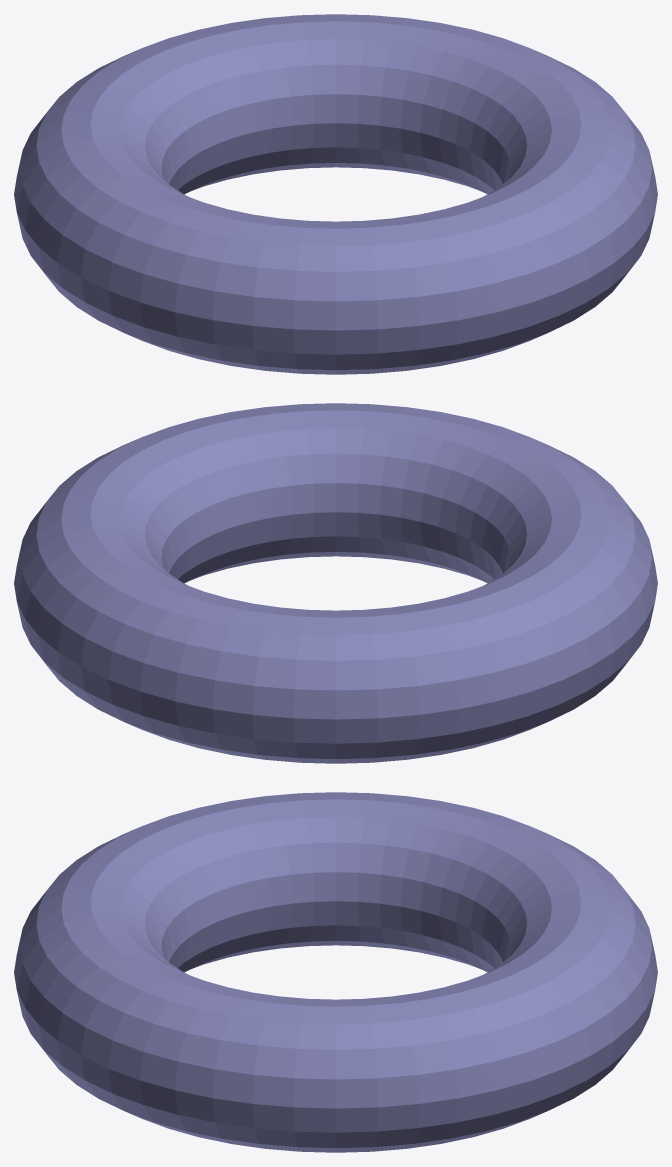
3 views of the same model, one above another, from view 1: azimuth 30°, elevation 25°; view 2: azimuth 150°, elevation 25°; view 3: azimuth 270°, elevation 25° (orthographic).
Parts seen in each view (by area): view 1: torusGroup; view 2: torusGroup; view 3: torusGroup.
Boxes of the visible parts, x1,y1,x2,y2 form: torusGroup: (14, 14, 657, 374); torusGroup: (14, 403, 657, 763); torusGroup: (14, 792, 657, 1152).
Size of the model in its own units: 10.5 by 2.5 by 10.5.
